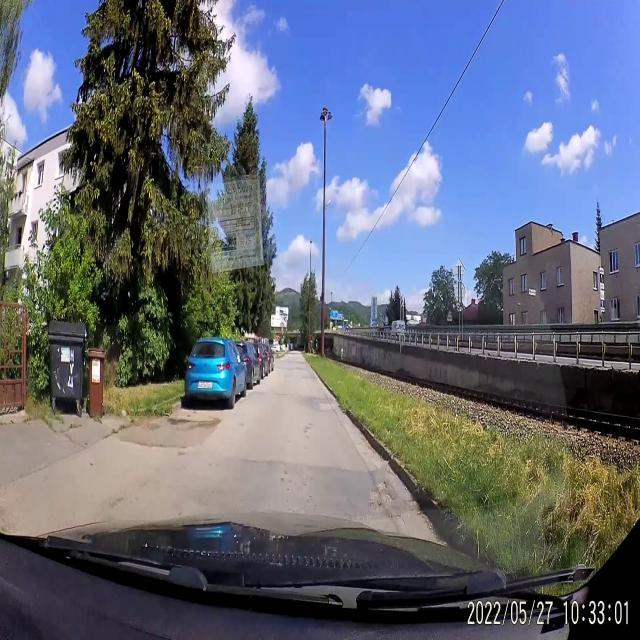Pothole: (368, 474, 394, 514), (167, 415, 190, 428), (404, 498, 424, 512), (394, 512, 406, 528), (304, 421, 314, 439)
